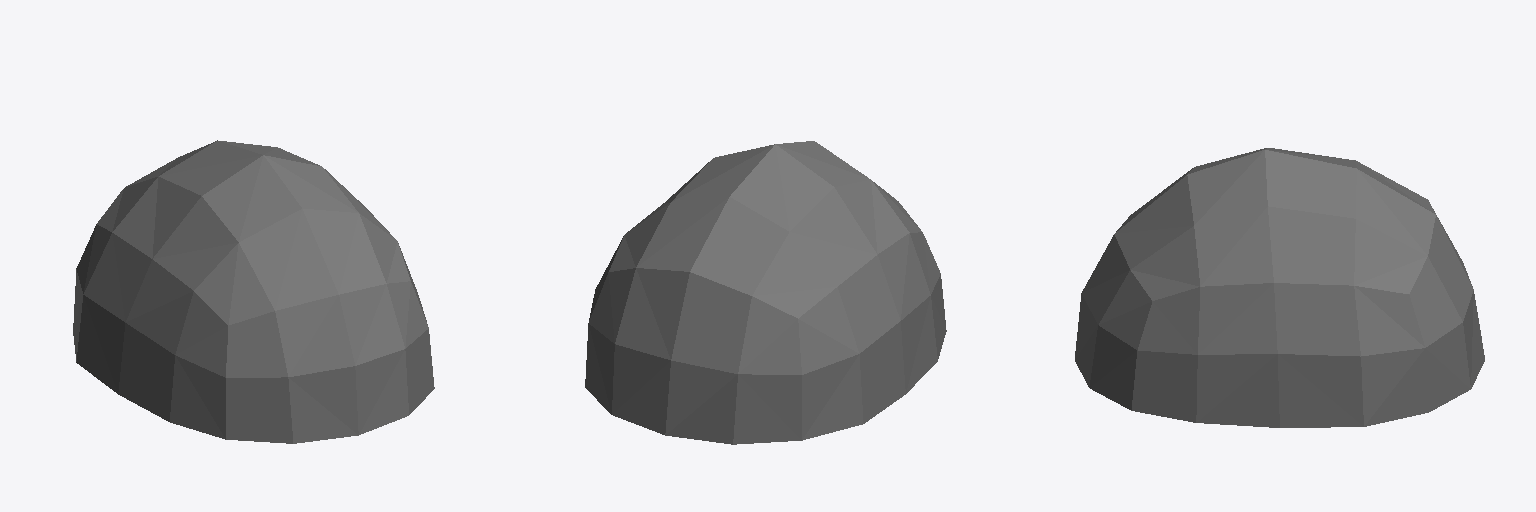
The model's file is LowPoly_Guarda_Capacete.obj.
3 renders of one model, left to right at view 1: azimuth 30°, elevation 25°; view 2: azimuth 150°, elevation 25°; view 3: azimuth 270°, elevation 25°, orthographic.
Parts seen in each view (by area): view 1: LowPoly_Guarda_Capacete; view 2: LowPoly_Guarda_Capacete; view 3: LowPoly_Guarda_Capacete.
Part boxes in pixels (left/top/right/bottom): LowPoly_Guarda_Capacete: left=73, top=140, right=434, bottom=443; LowPoly_Guarda_Capacete: left=585, top=141, right=946, bottom=444; LowPoly_Guarda_Capacete: left=1075, top=148, right=1484, bottom=427.
Size of the model in its own units: 17.06 by 12.58 by 22.02.